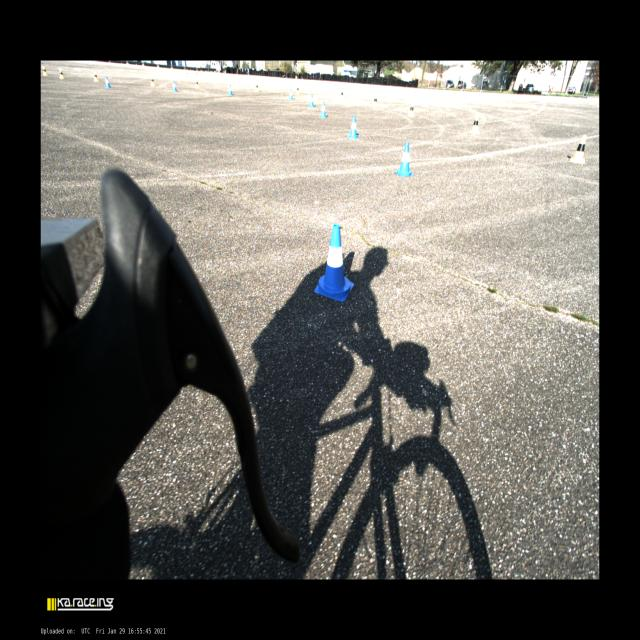blue_cone: (314, 224, 354, 302), (395, 142, 414, 177), (347, 115, 359, 139), (319, 100, 327, 118), (308, 93, 316, 107), (288, 87, 294, 100), (228, 83, 234, 95), (172, 80, 178, 92), (105, 76, 111, 88)
yellow_cone: (569, 134, 587, 164), (468, 115, 479, 134), (407, 103, 414, 117), (93, 71, 99, 82), (372, 95, 378, 106), (42, 66, 48, 76), (150, 75, 155, 86), (254, 81, 259, 92), (60, 68, 64, 78), (340, 90, 344, 100), (195, 79, 199, 88), (296, 85, 300, 94)
